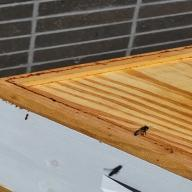Bee: (131, 124, 153, 140)
